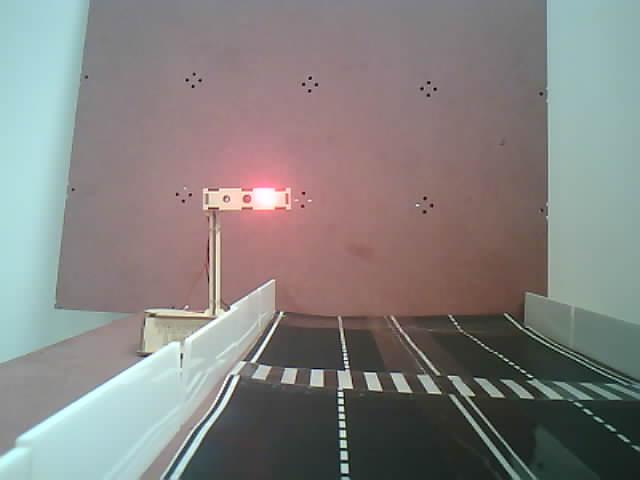crosswalk: (202, 334, 640, 429)
red: (222, 176, 317, 233)
